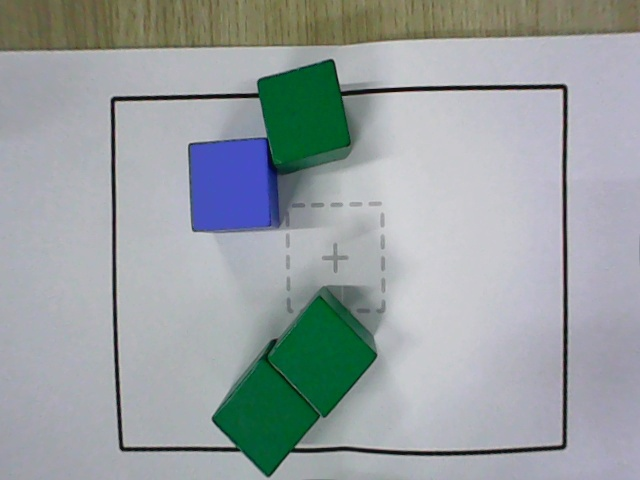upside of small cube: (265, 296, 377, 418), (211, 358, 322, 478), (256, 59, 352, 168), (189, 137, 271, 232)
